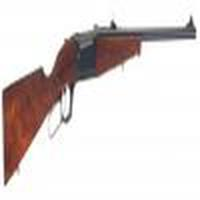gun: (2, 24, 197, 185)
